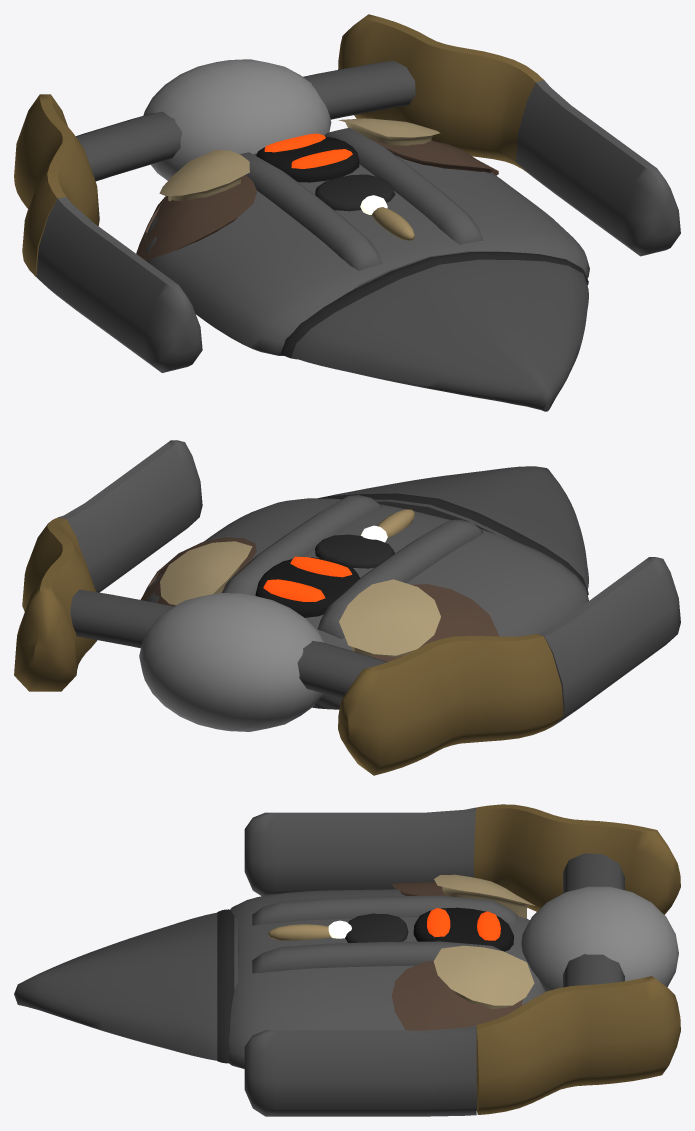
File: shield_ship.glb
The picture shows the model from 3 angles, top to bottom: view 1: azimuth 30°, elevation 25°; view 2: azimuth 150°, elevation 25°; view 3: azimuth 270°, elevation 25°; orthographic projection. The views are drawn at different scales.
Visible parts, largest first — view 1: keel, hull, horn_r, blade_l, blade_r, head, crossbar, horn_l, rail_r, rail_l, collar_l, seam (+8 smaller); view 2: horn_l, head, hull, blade_l, blade_r, keel, horn_r, crossbar, collar_gold_l, rail_r, rail_l, collar_gold_r (+8 smaller); view 3: blade_r, horn_r, keel, blade_l, hull, horn_l, head, rail_r, collar_gold_r, rail_l, collar_r, crossbar (+8 smaller).
Boxes of the visible parts, x1=… form: keel: x1=291, y1=251, x2=588, y2=411; hull: x1=145, y1=153, x2=589, y2=355; horn_r: x1=338, y1=14, x2=543, y2=171; blade_l: x1=36, y1=197, x2=202, y2=372; blade_r: x1=515, y1=80, x2=680, y2=256; head: x1=143, y1=59, x2=331, y2=180; crossbar: x1=76, y1=60, x2=415, y2=181; horn_l: x1=14, y1=94, x2=99, y2=276; rail_r: x1=240, y1=152, x2=382, y2=270; rail_l: x1=324, y1=127, x2=483, y2=244; collar_l: x1=136, y1=174, x2=257, y2=260; seam: x1=280, y1=252, x2=588, y2=359; horn_l: x1=338, y1=634, x2=563, y2=775; head: x1=139, y1=592, x2=324, y2=731; hull: x1=145, y1=498, x2=588, y2=709; blade_l: x1=536, y1=557, x2=680, y2=725; blade_r: x1=58, y1=440, x2=202, y2=592; keel: x1=330, y1=466, x2=588, y2=589; horn_r: x1=14, y1=517, x2=97, y2=691; crossbar: x1=70, y1=589, x2=387, y2=698; collar_gold_l: x1=339, y1=579, x2=440, y2=657; rail_r: x1=317, y1=519, x2=483, y2=638; rail_l: x1=222, y1=495, x2=382, y2=595; collar_gold_r: x1=160, y1=541, x2=252, y2=605; blade_r: x1=244, y1=1025, x2=476, y2=1116; horn_r: x1=476, y1=976, x2=680, y2=1114; keel: x1=14, y1=912, x2=238, y2=1060; blade_l: x1=244, y1=807, x2=476, y2=896; hull: x1=229, y1=889, x2=544, y2=1068; horn_l: x1=474, y1=804, x2=680, y2=914; head: x1=521, y1=886, x2=678, y2=991; rail_r: x1=252, y1=895, x2=517, y2=925; collar_gold_r: x1=433, y1=945, x2=534, y2=1009; rail_l: x1=252, y1=941, x2=503, y2=973; collar_r: x1=392, y1=961, x2=522, y2=1030; crossbar: x1=563, y1=853, x2=624, y2=987.
Size of the model in its own units: 22.11 by 4.64 by 25.88.
